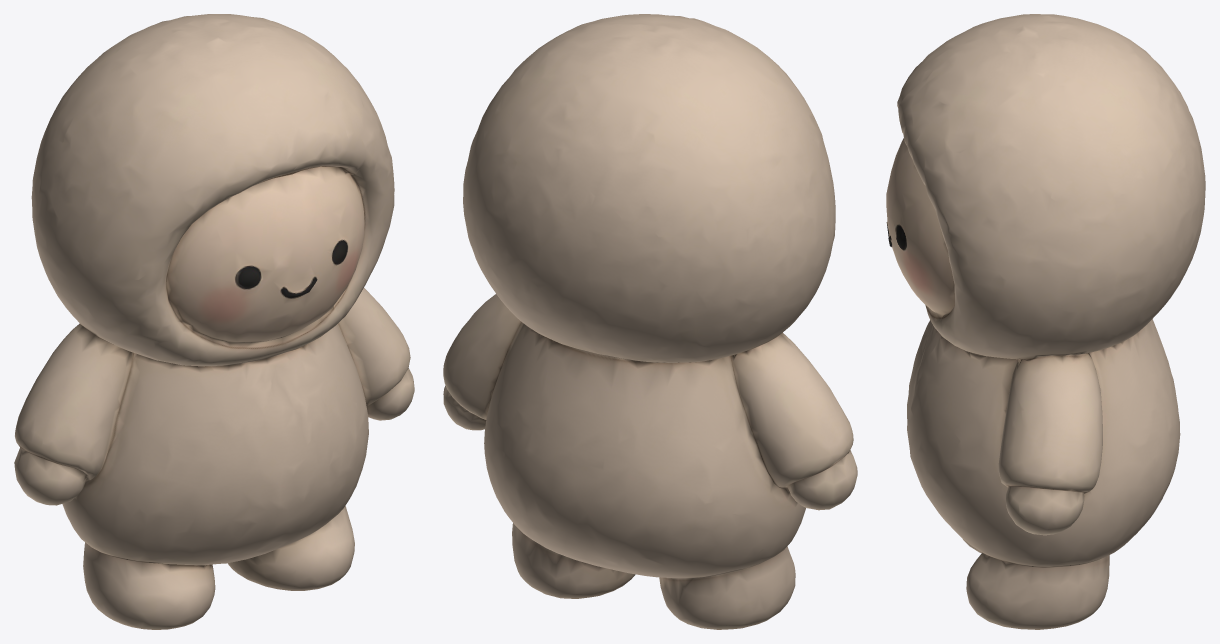
File: muse.glb
3 views of the same model, side by side, from view 1: azimuth 30°, elevation 25°; view 2: azimuth 150°, elevation 25°; view 3: azimuth 270°, elevation 25° (orthographic). The views are drawn at different scales.
Visible parts, largest first — view 1: tripo_node_90c67531-9e3c-449d-b16c-6f89484d17a7; view 2: tripo_node_90c67531-9e3c-449d-b16c-6f89484d17a7; view 3: tripo_node_90c67531-9e3c-449d-b16c-6f89484d17a7.
Boxes of the visible parts, bbox=[...] form: tripo_node_90c67531-9e3c-449d-b16c-6f89484d17a7: bbox=[14, 14, 414, 629]; tripo_node_90c67531-9e3c-449d-b16c-6f89484d17a7: bbox=[443, 14, 857, 629]; tripo_node_90c67531-9e3c-449d-b16c-6f89484d17a7: bbox=[886, 14, 1205, 629].
Size of the model in its own units: 0.7356 by 1 by 0.5287.
Materials: 1 (1 with a texture image).
